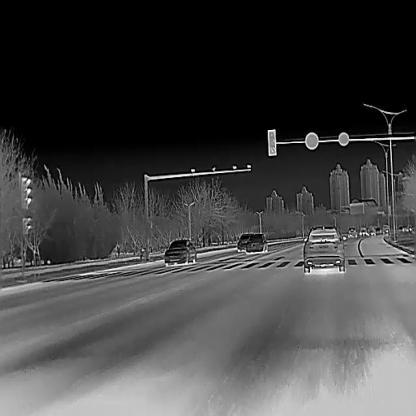car: (303, 225, 346, 271), (164, 239, 196, 266), (245, 233, 267, 253), (237, 233, 250, 252), (347, 227, 356, 237), (359, 227, 367, 235)
